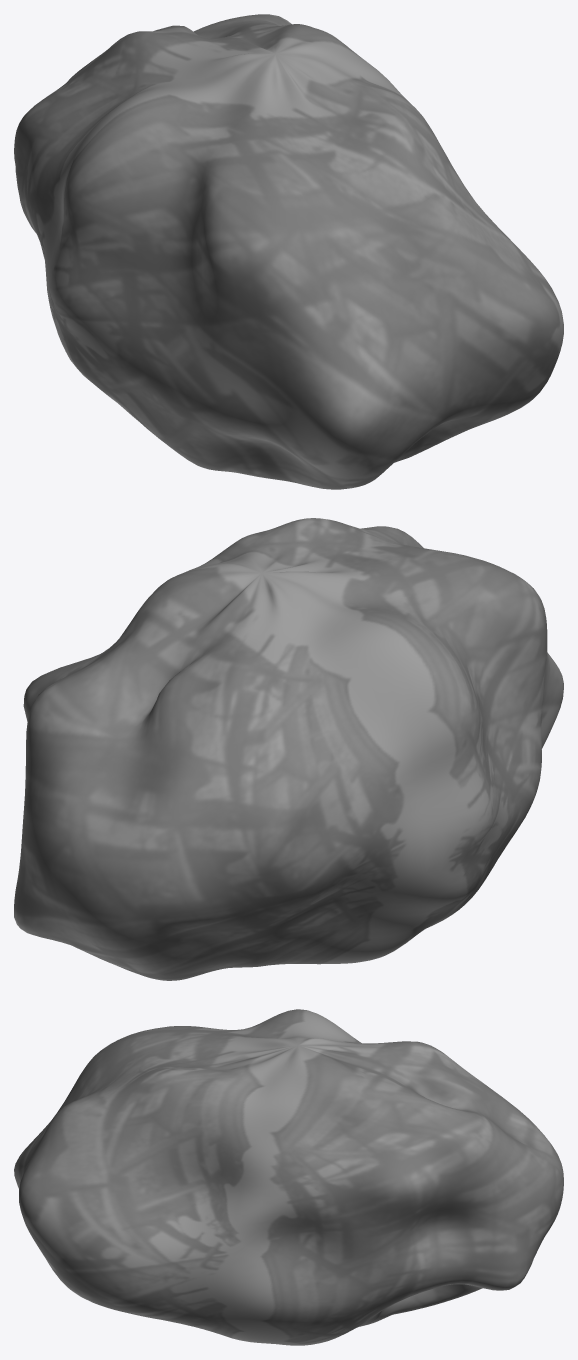
File: meteor.fbx
The picture shows the model from 3 angles, top to bottom: view 1: azimuth 30°, elevation 25°; view 2: azimuth 150°, elevation 25°; view 3: azimuth 270°, elevation 25°; orthographic projection. The views are drawn at different scales.
Visible parts, largest first — view 1: Sphere; view 2: Sphere; view 3: Sphere.
Boxes of the visible parts, x1,y1,x2,y2 form: Sphere: (14,14,563,489); Sphere: (14,518,563,980); Sphere: (14,1009,563,1345).
Size of the model in its own units: 1178 by 1060 by 1892.
Materials: 1 (1 with a texture image).
